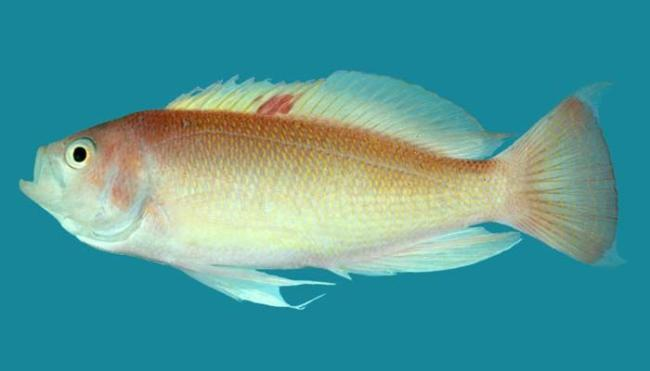fish: (18, 70, 627, 311)
